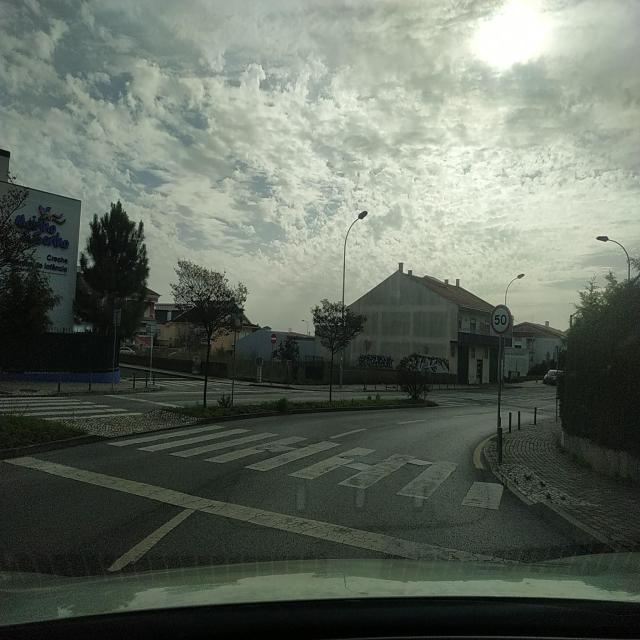car: (544, 368, 558, 385)
